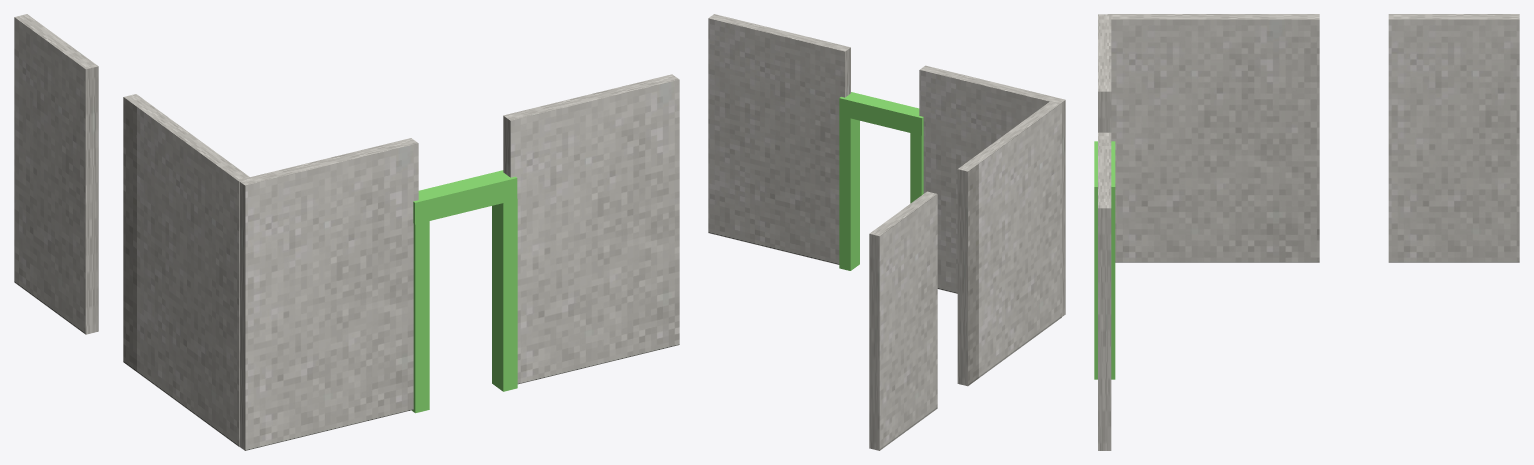
File: wall new.fbx
3 renders of one model, left to right at view 1: azimuth 30°, elevation 25°; view 2: azimuth 150°, elevation 25°; view 3: azimuth 270°, elevation 25°, orthographic. The views are drawn at different scales.
Visible parts, largest first — view 1: Cube.003, Cube.001, Cube.002, Cube.004, Cube.021; view 2: Cube.001, Cube.002, Cube.004, Cube.003, Cube.021; view 3: Cube.002, Cube.004, Cube.001, Cube.021, Cube.003.
Boxes of the visible parts, bbox=[...] form: Cube.003: bbox=[238, 138, 418, 450]; Cube.001: bbox=[503, 74, 679, 384]; Cube.002: bbox=[123, 94, 249, 446]; Cube.004: bbox=[14, 14, 98, 334]; Cube.021: bbox=[412, 170, 517, 413]; Cube.001: bbox=[708, 14, 850, 264]; Cube.002: bbox=[957, 102, 1061, 386]; Cube.004: bbox=[869, 191, 937, 450]; Cube.003: bbox=[919, 65, 1065, 316]; Cube.021: bbox=[839, 92, 923, 270]; Cube.002: bbox=[1108, 14, 1319, 262]; Cube.004: bbox=[1388, 14, 1519, 262]; Cube.001: bbox=[1098, 132, 1111, 450]; Cube.021: bbox=[1094, 141, 1115, 379]; Cube.003: bbox=[1098, 14, 1111, 132].
Size of the model in its own units: 570 by 335 by 528.
2 materials, 1 textured.
